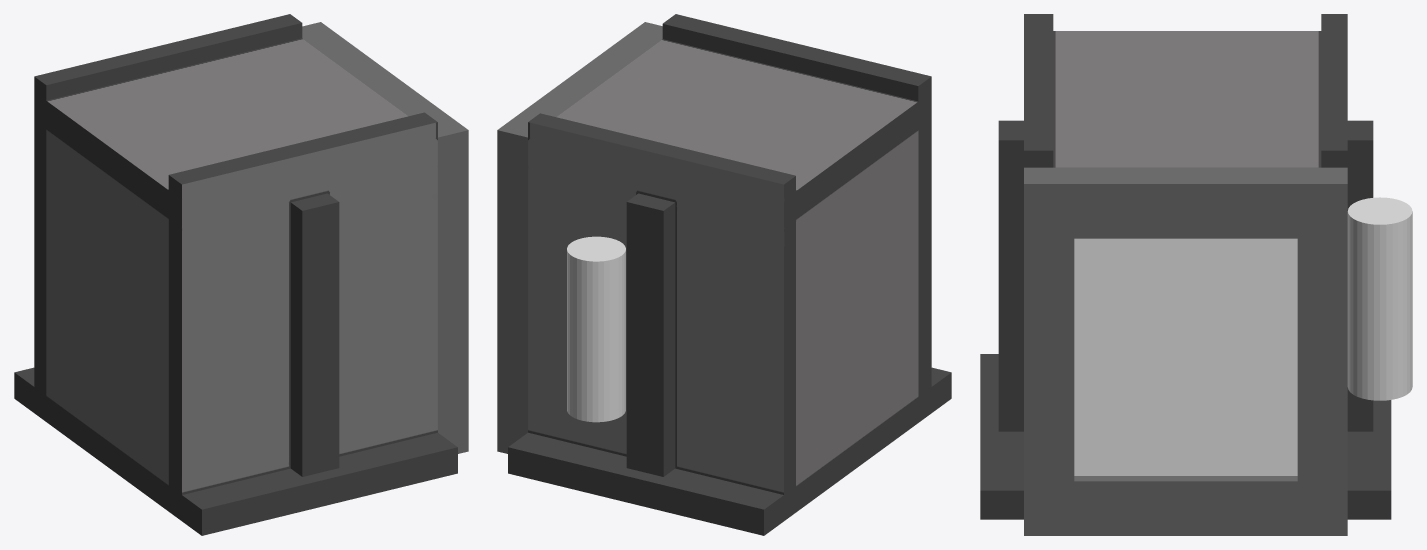
Rendered from mini_container.gltf.
3 renders of one model, left to right at view 1: azimuth 30°, elevation 25°; view 2: azimuth 150°, elevation 25°; view 3: azimuth 270°, elevation 25°, orthographic. The views are drawn at different scales.
Visible parts, largest first — view 1: Cube, Cube.001; view 2: Cube, Cube.001, Cylinder; view 3: Cube.001, Cube, Cube.002, Cylinder.
Boxes of the visible parts, bbox=[...] form: Cube: bbox=[14, 14, 457, 535]; Cube.001: bbox=[302, 22, 468, 453]; Cube: bbox=[508, 14, 951, 535]; Cube.001: bbox=[497, 22, 662, 453]; Cylinder: bbox=[567, 236, 625, 422]; Cube.001: bbox=[1024, 167, 1347, 535]; Cube: bbox=[980, 14, 1391, 519]; Cube.002: bbox=[1074, 238, 1297, 475]; Cylinder: bbox=[1347, 197, 1412, 400].
Bounding box in the file's own units: 2.8 × 3.14 × 3.34.
3 materials, 1 textured.
